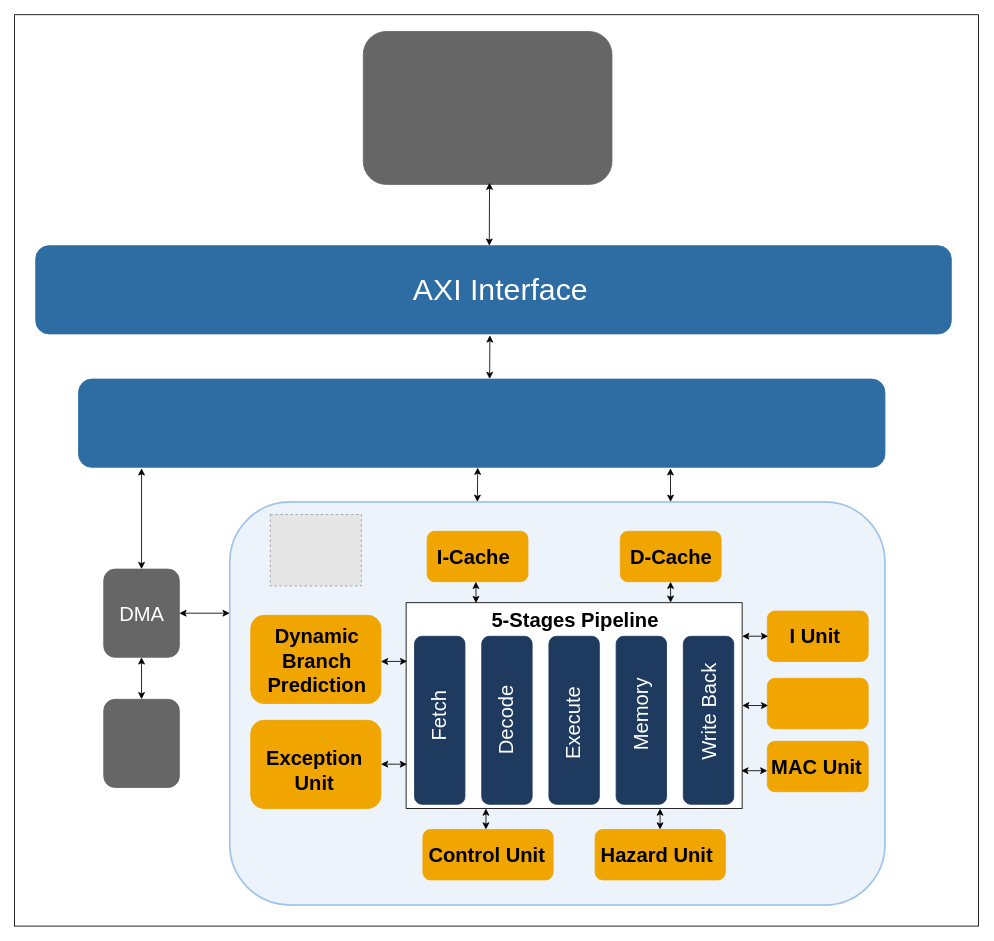
The diagram is 994 pixels wide and 941 high, and some of its shapes have lost their labels. Grey dashed boxes stand in for pictures. The centre of each missing label's shape, as x and y in pixels:
Arbiter: the point at 481,422
M unit: the point at 817,703
Main Memory: the point at 487,107
SPM: the point at 141,743
